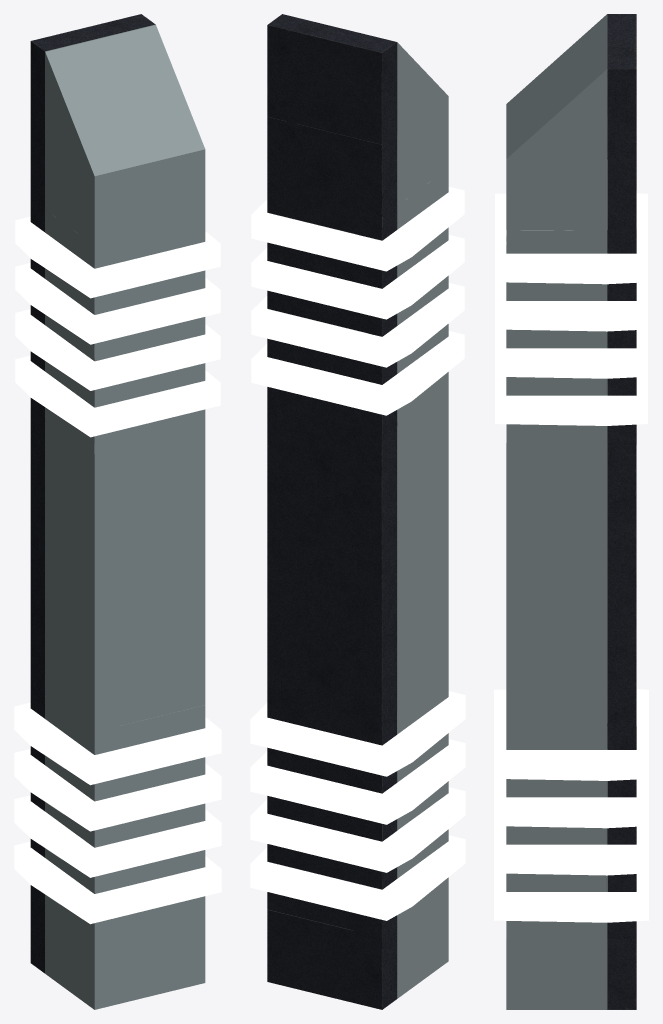
File: light pillar.fbx
3 renders of one model, left to right at view 1: azimuth 30°, elevation 25°; view 2: azimuth 150°, elevation 25°; view 3: azimuth 270°, elevation 25°, orthographic. The views are drawn at different scales.
Visible parts, largest first — view 1: light pillar; view 2: light pillar; view 3: light pillar.
Part boxes in pixels (bbox=[...]): light pillar: bbox=[14, 14, 221, 1009]; light pillar: bbox=[250, 14, 465, 1009]; light pillar: bbox=[494, 14, 648, 1009].
Size of the model in its own units: 58.85 by 370 by 55.24.
